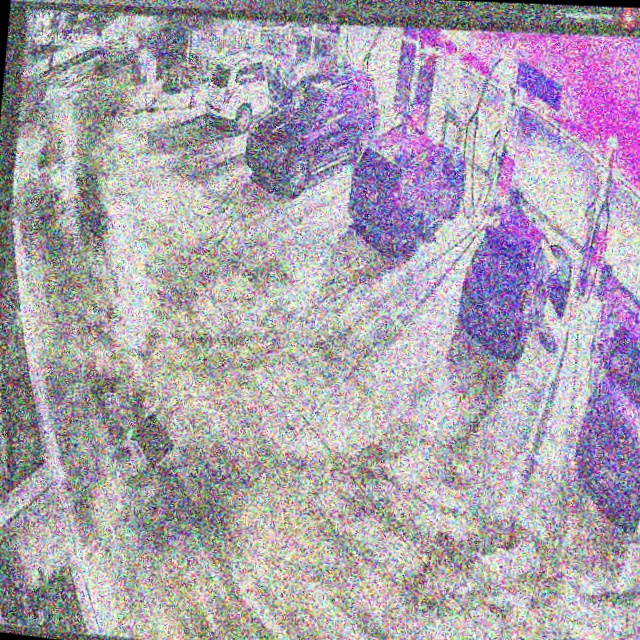Car: (453, 202, 574, 370), (345, 106, 468, 259), (245, 56, 378, 191)
